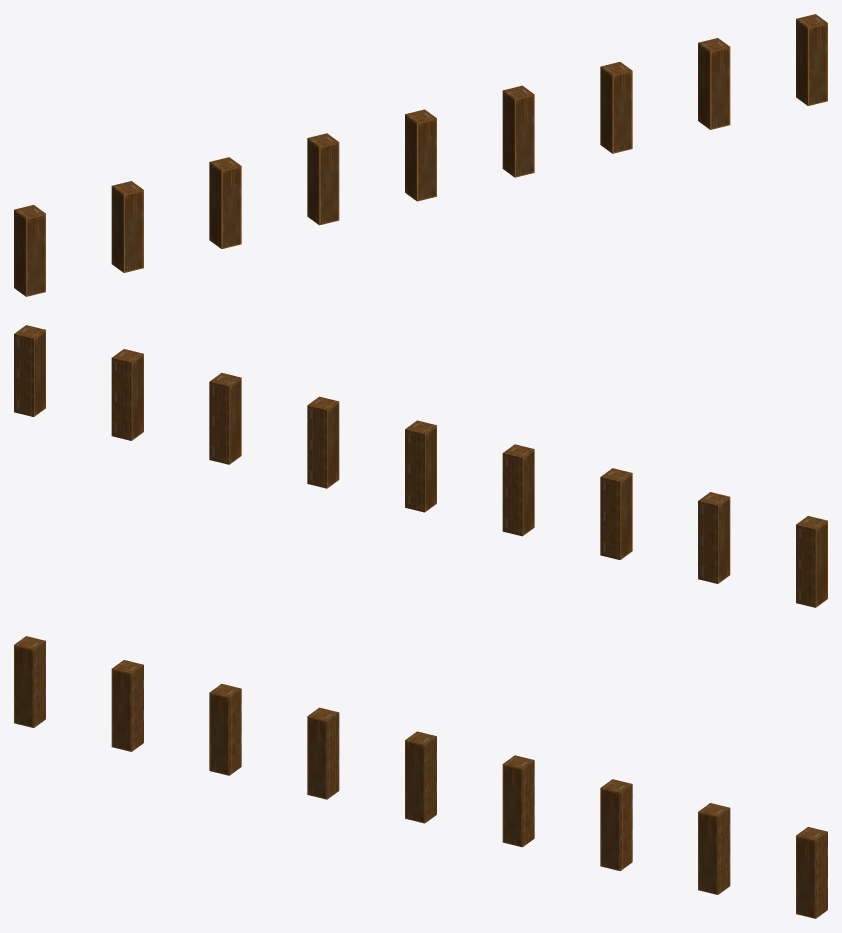
3 views of the same model, one above another, from view 1: azimuth 30°, elevation 25°; view 2: azimuth 150°, elevation 25°; view 3: azimuth 330°, elevation 25° (orthographic).
Parts seen in each view (by area): view 1: Cube.977; view 2: Cube.977; view 3: Cube.977.
Boxes of the visible parts, box(x1,y1,x2,y2) form: Cube.977: box(14, 14, 827, 296); Cube.977: box(14, 325, 827, 607); Cube.977: box(14, 636, 827, 918).
Bounding box in the file's own units: 790 × 73.82 × 20.83.
1 material, 1 textured.
